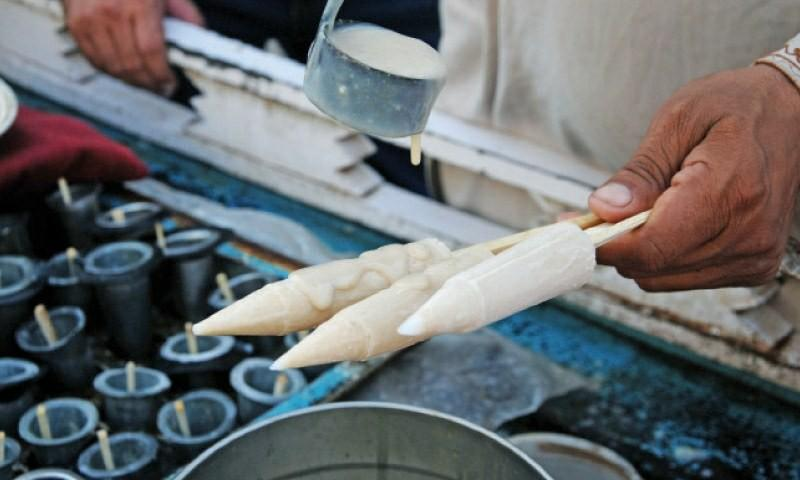Kulfi: (187, 237, 452, 338), (272, 251, 495, 369), (394, 224, 598, 336)
